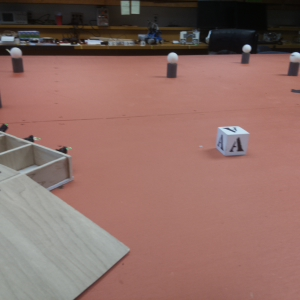blockA: (219, 123, 247, 159)
obstacle: (163, 52, 183, 81), (287, 51, 300, 78), (10, 48, 24, 73), (237, 43, 252, 63)
side: (1, 115, 79, 187)
slope: (1, 189, 127, 300)
start: (290, 85, 300, 96)
